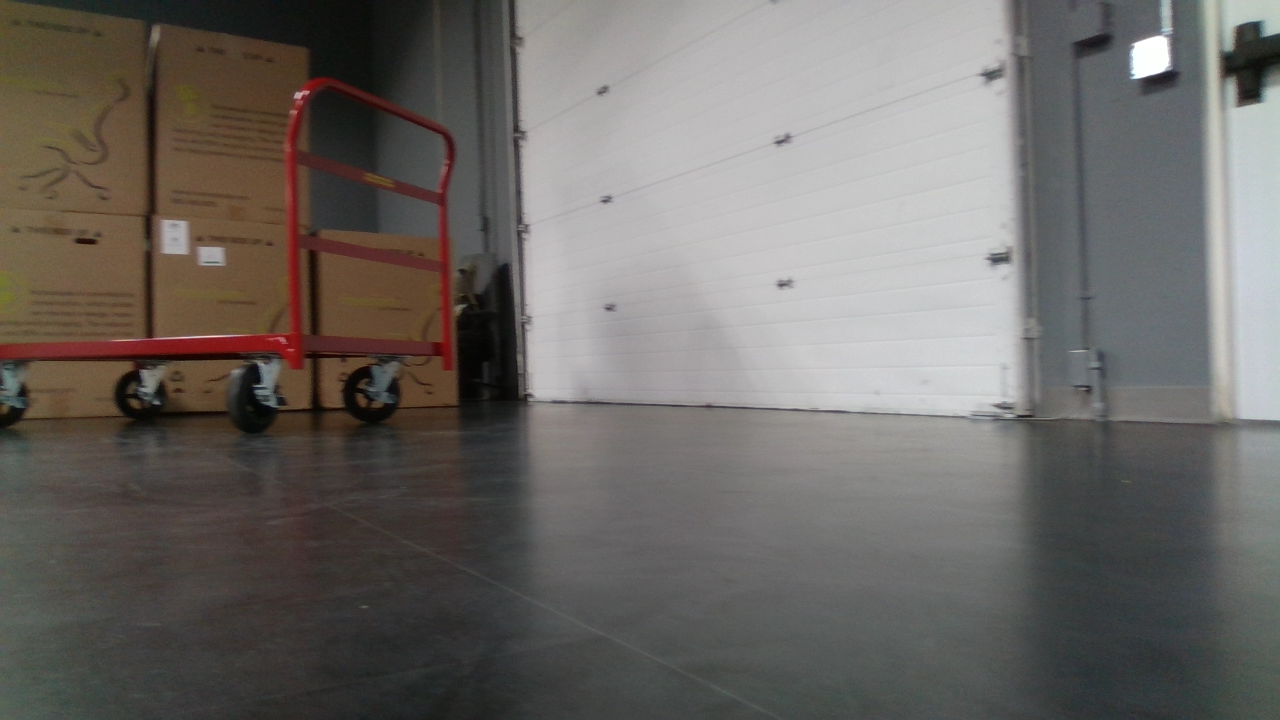Dolly: (0, 75, 459, 437)
Wheel: (221, 359, 281, 434), (340, 354, 403, 424), (113, 362, 169, 422), (0, 364, 32, 429)
